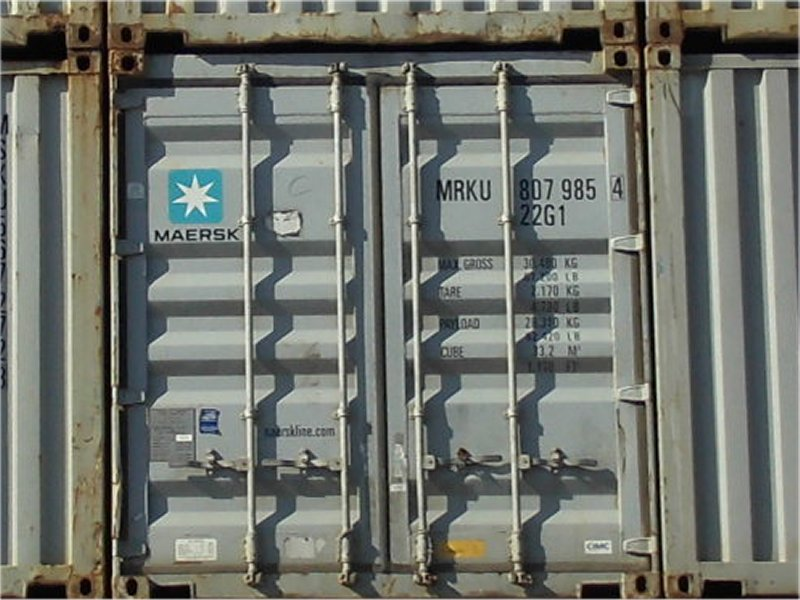container_door: (105, 48, 664, 594)
